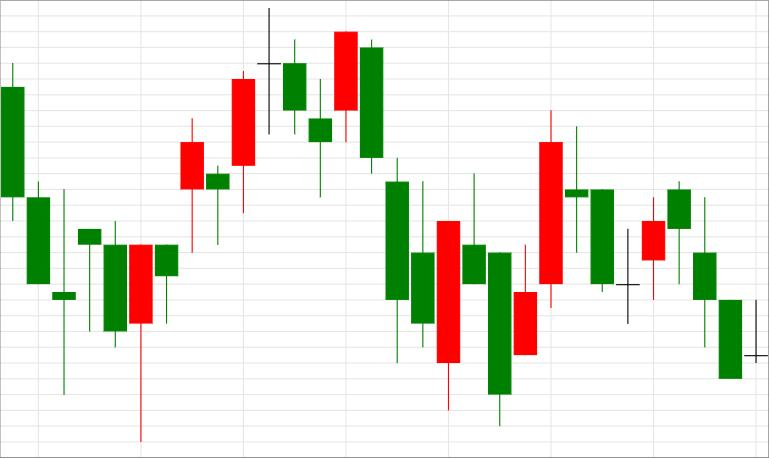evening_star_fall: (129, 9, 306, 442)
morning_star_rise: (566, 127, 665, 324)
